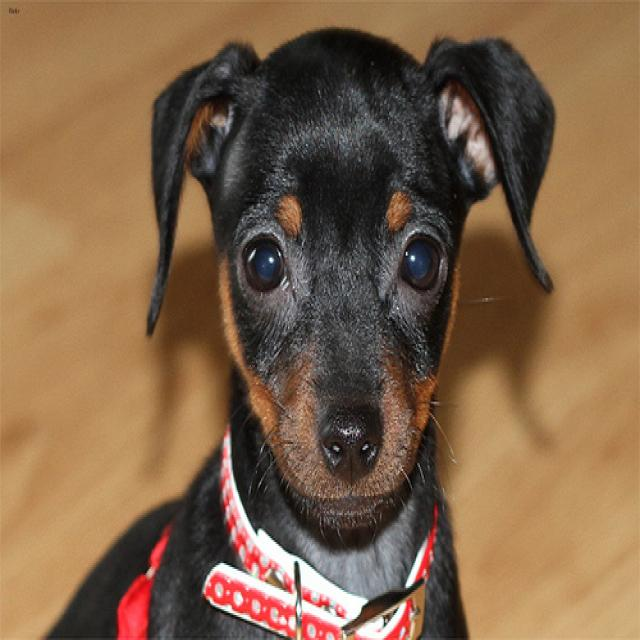dog-miniature_pinscher: (38, 17, 563, 636)
